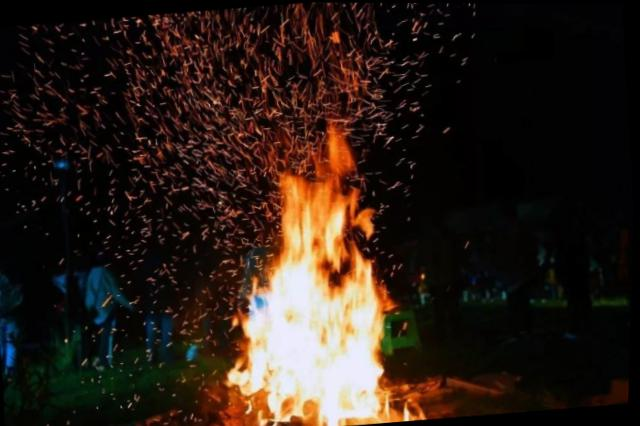fire: (197, 117, 437, 423)
